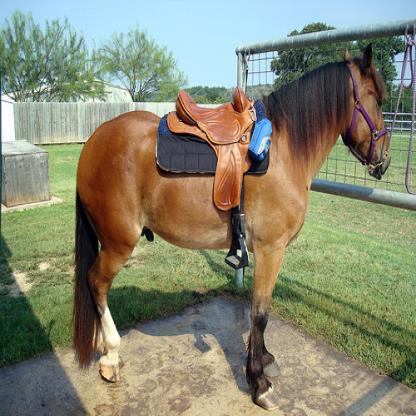horse: (73, 42, 392, 411)
